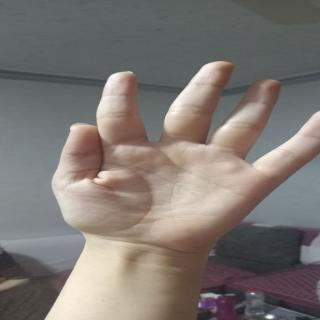SHEEN: (42, 54, 320, 249)
